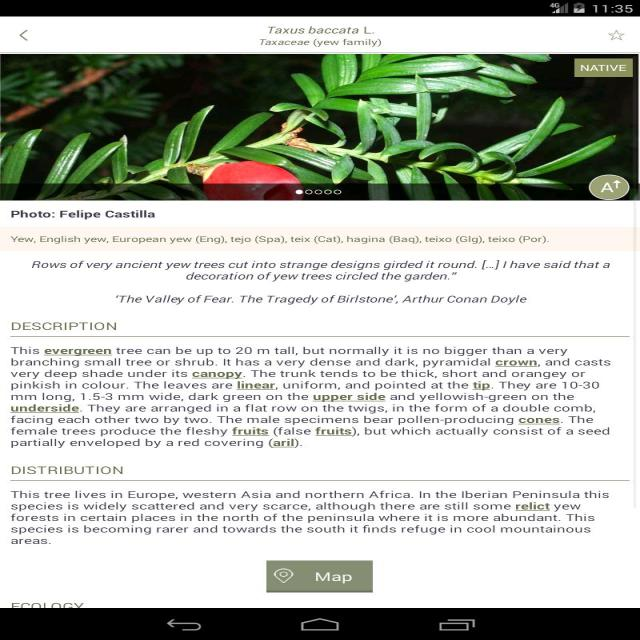button: (267, 561, 373, 592), (12, 24, 36, 48), (605, 27, 630, 45)
heading: (254, 18, 385, 49), (6, 206, 160, 223), (8, 462, 128, 478), (10, 319, 119, 335)
image: (5, 52, 639, 202)
text: (10, 345, 623, 452), (5, 486, 618, 551), (21, 255, 621, 307), (6, 234, 551, 247)
